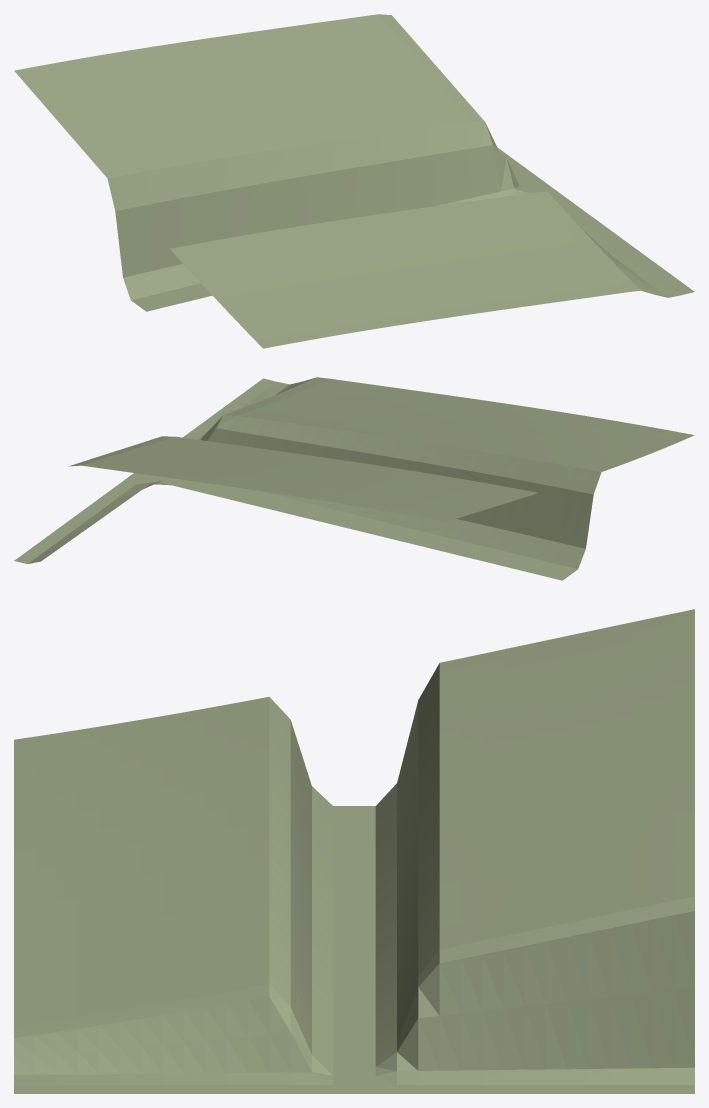
File: valley-7-2.glb
The picture shows the model from 3 angles, top to bottom: view 1: azimuth 30°, elevation 25°; view 2: azimuth 150°, elevation 25°; view 3: azimuth 270°, elevation 25°; orthographic projection. The views are drawn at different scales.
Parts seen in each view (by area): view 1: valley-7-2; view 2: valley-7-2; view 3: valley-7-2.
Part boxes in pixels (x1=…): valley-7-2: x1=14, y1=14, x2=694, y2=348; valley-7-2: x1=14, y1=377, x2=694, y2=580; valley-7-2: x1=14, y1=609, x2=694, y2=1093.
Size of the model in its own units: 256 by 81.7 by 256.
